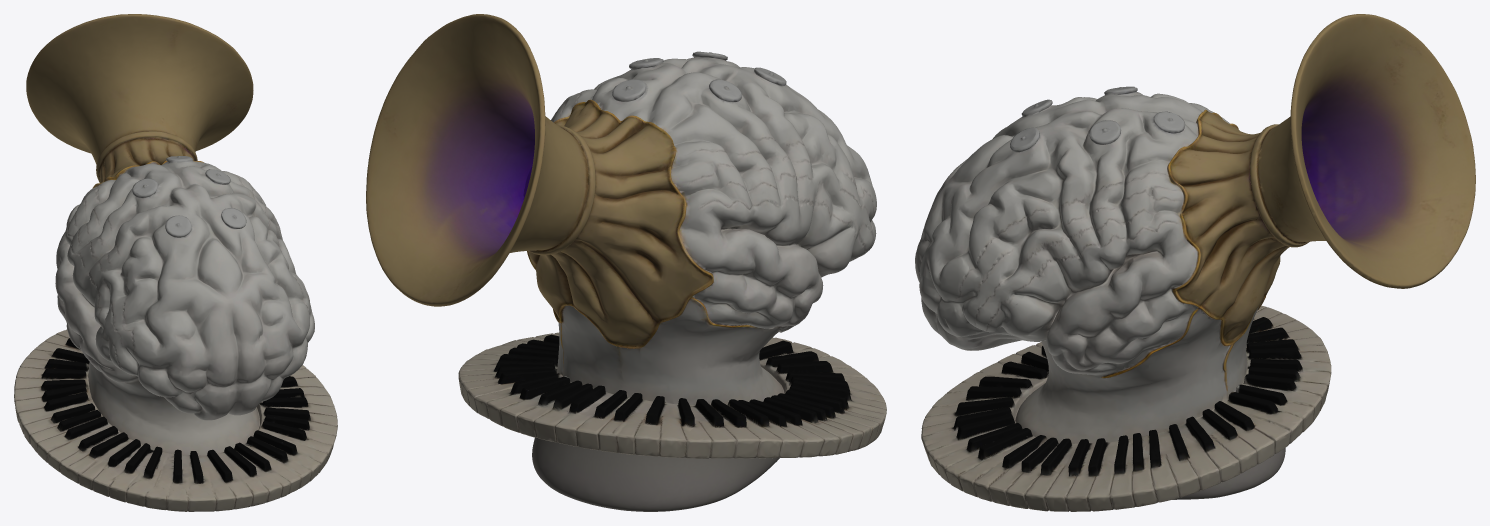
File: 28b-body-conducts.glb
3 renders of one model, left to right at view 1: azimuth 30°, elevation 25°; view 2: azimuth 150°, elevation 25°; view 3: azimuth 270°, elevation 25°, orthographic. The views are drawn at different scales.
Visible parts, largest first — view 1: tripo_node_a1992086-3f19-4ffd-9388-d6528cd8ba2f; view 2: tripo_node_a1992086-3f19-4ffd-9388-d6528cd8ba2f; view 3: tripo_node_a1992086-3f19-4ffd-9388-d6528cd8ba2f.
Part boxes in pixels (x1,y1,x2,y2): tripo_node_a1992086-3f19-4ffd-9388-d6528cd8ba2f: (14, 14, 337, 511); tripo_node_a1992086-3f19-4ffd-9388-d6528cd8ba2f: (366, 14, 886, 511); tripo_node_a1992086-3f19-4ffd-9388-d6528cd8ba2f: (915, 14, 1475, 511).
Size of the model in its own units: 0.7518 by 0.9097 by 1.
Materials: 1 (1 with a texture image).
